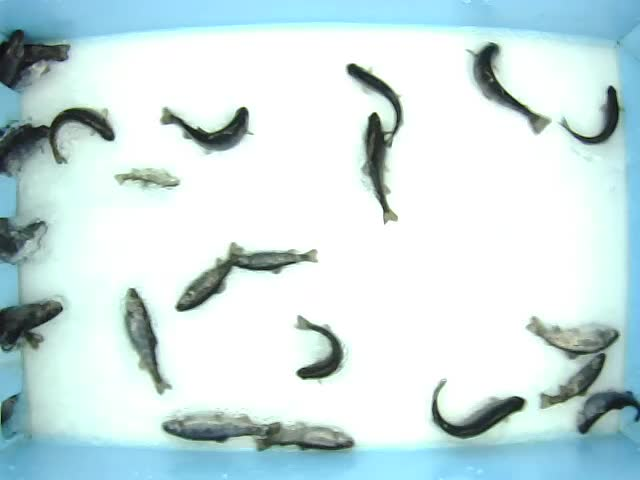fish: (464, 40, 553, 137), (427, 376, 526, 439), (121, 285, 173, 396), (345, 62, 404, 150), (171, 239, 239, 315), (160, 104, 255, 155), (524, 314, 620, 363), (159, 407, 281, 444), (361, 111, 400, 225), (291, 313, 349, 386), (557, 85, 626, 145), (539, 349, 606, 410), (47, 104, 115, 164), (251, 422, 356, 453), (575, 387, 640, 437), (228, 247, 318, 276), (112, 167, 182, 190)
